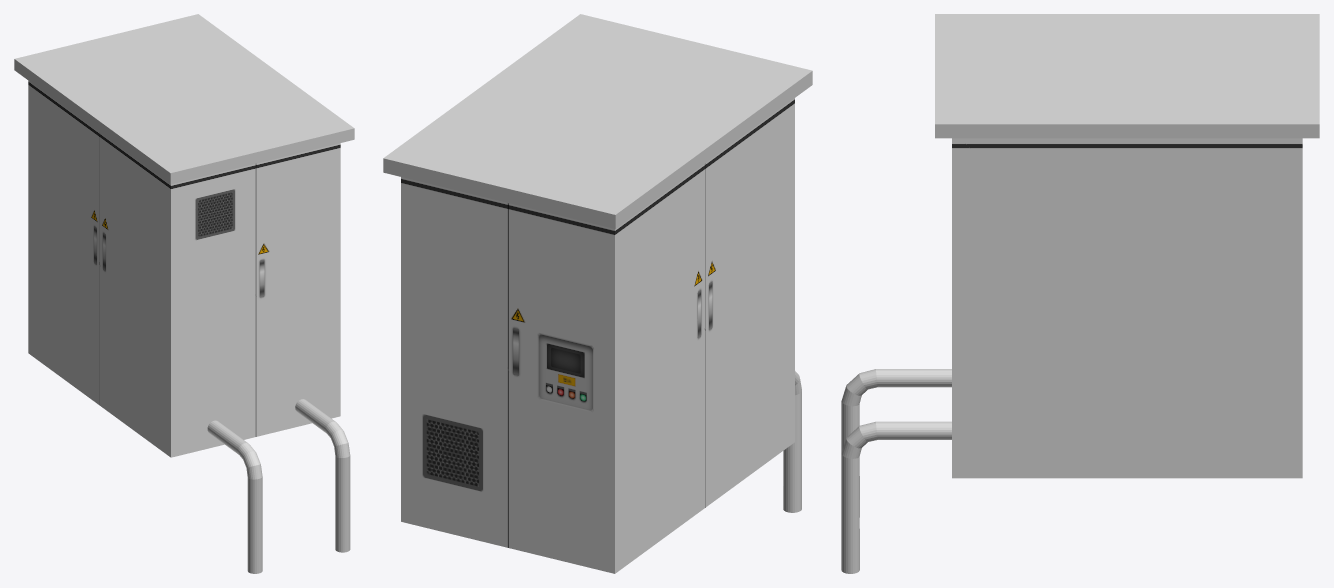
File: lcs.gltf
The picture shows the model from 3 angles, left to right: view 1: azimuth 30°, elevation 25°; view 2: azimuth 150°, elevation 25°; view 3: azimuth 270°, elevation 25°; orthographic projection. The views are drawn at different scales.
Visible parts, largest first — view 1: 液冷.003; view 2: 液冷.003; view 3: 液冷.003.
Part boxes in pixels (<box>): 液冷.003: <box>14,14,354,573</box>; 液冷.003: <box>383,14,812,573</box>; 液冷.003: <box>841,14,1319,573</box>.
Size of the model in its own units: 1.7 by 3.4 by 3.11.
2 materials, 1 textured.
